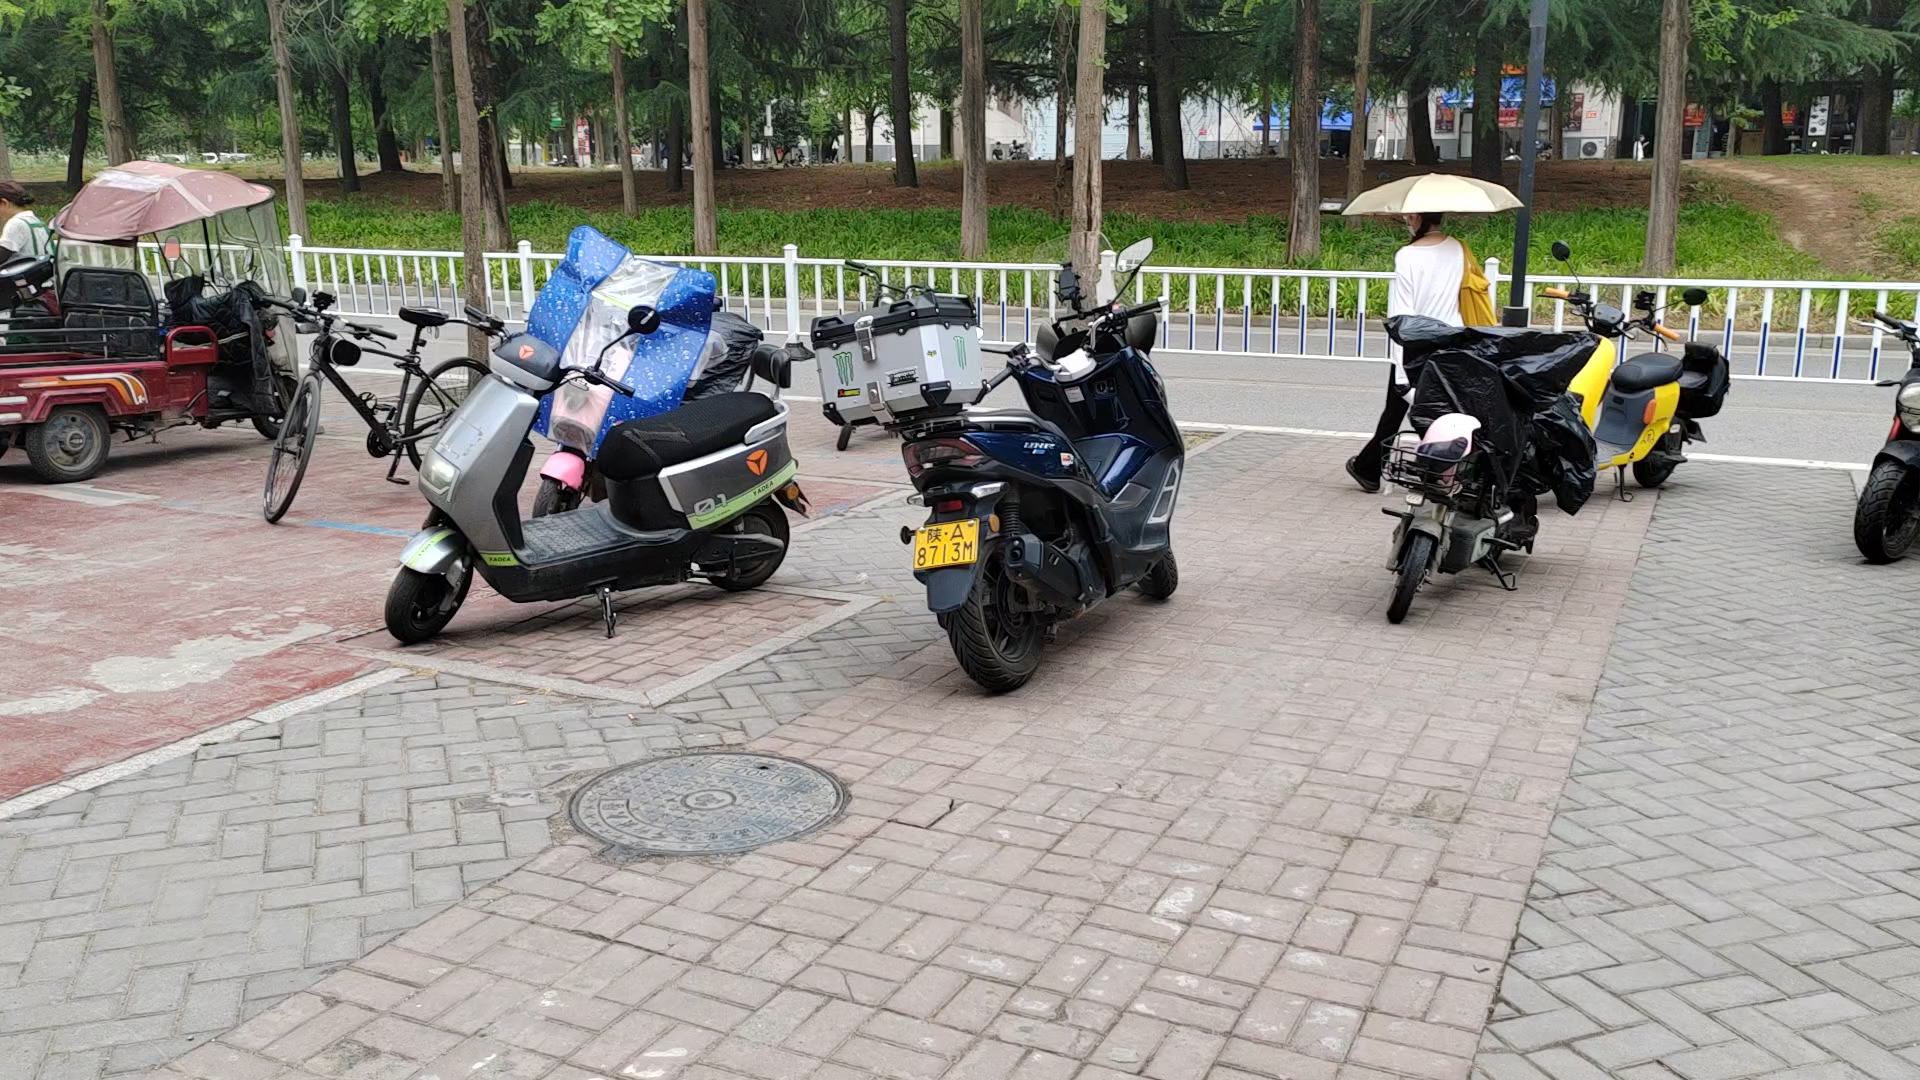others: (815, 249, 1229, 686), (410, 320, 789, 636), (512, 228, 793, 502), (1365, 299, 1577, 597), (249, 277, 483, 514), (1539, 243, 1738, 512)
